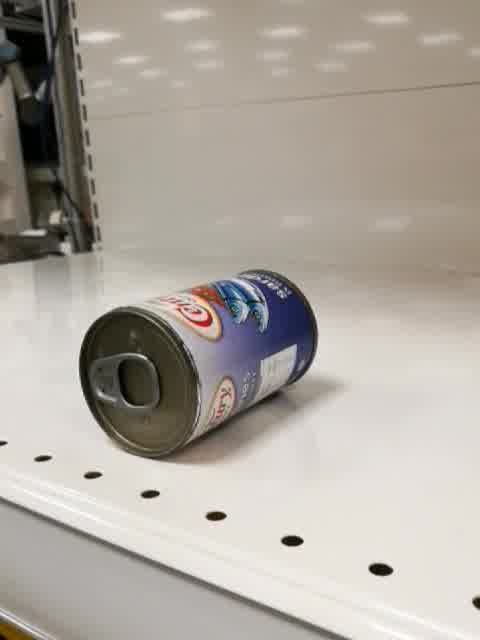sardine: (80, 268, 318, 461)
